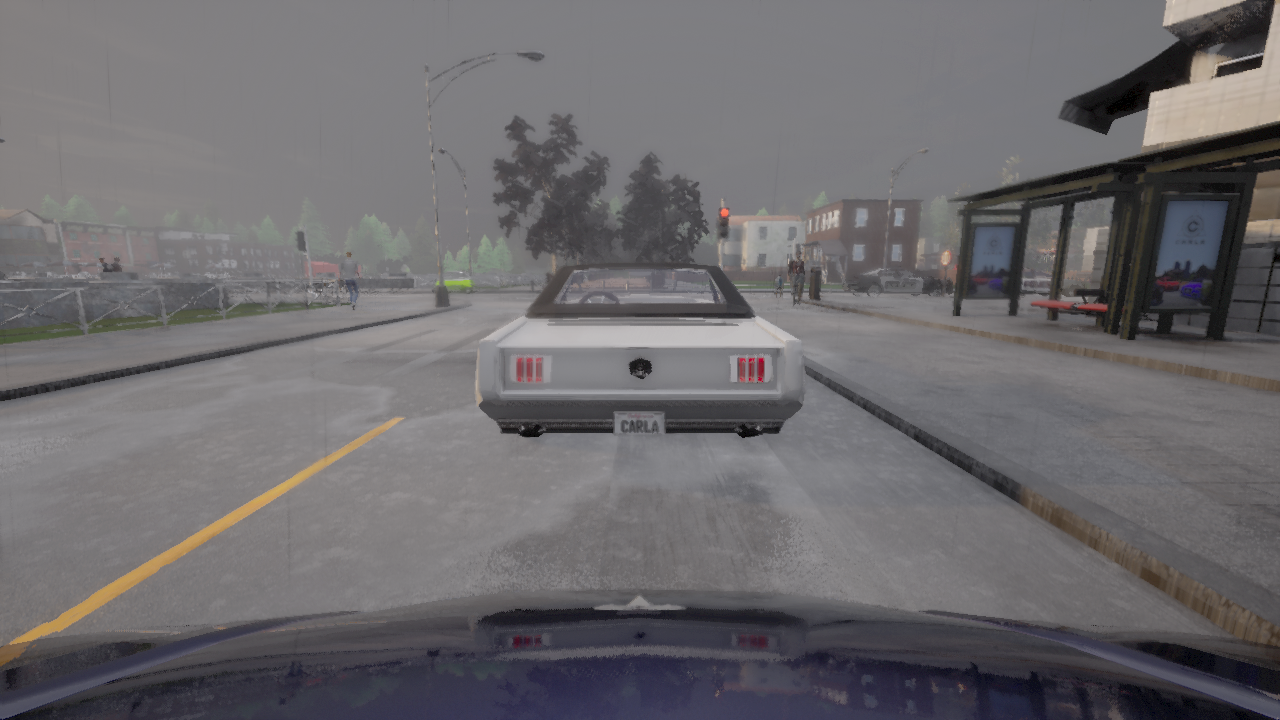cyclist: (0, 588, 1279, 719), (475, 262, 805, 437), (841, 264, 951, 296), (434, 270, 476, 293), (1020, 266, 1052, 296), (4, 274, 6, 279)
pedestrian: (338, 250, 360, 310), (788, 250, 805, 306), (98, 256, 112, 271), (775, 273, 783, 299), (111, 255, 122, 271)
